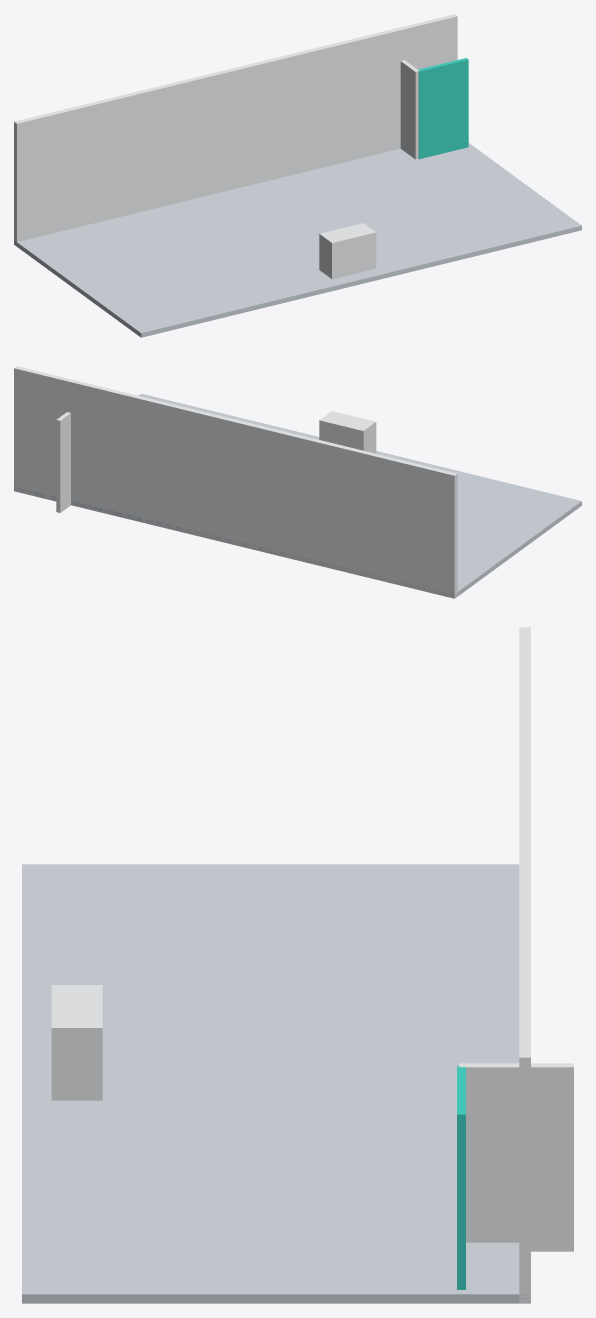
3 views of the same model, one above another, from view 1: azimuth 30°, elevation 25°; view 2: azimuth 150°, elevation 25°; view 3: azimuth 270°, elevation 25° (orthographic). The views are drawn at different scales.
Parts seen in each view (by area): view 1: Exhibition Booth Concept; view 2: Exhibition Booth Concept; view 3: Exhibition Booth Concept.
Boxes of the visible parts, x1,y1,x2,y2 form: Exhibition Booth Concept: [14, 14, 581, 337]; Exhibition Booth Concept: [14, 366, 581, 598]; Exhibition Booth Concept: [22, 627, 573, 1303].
Size of the model in its own units: 12 by 3.2 by 6.51.
